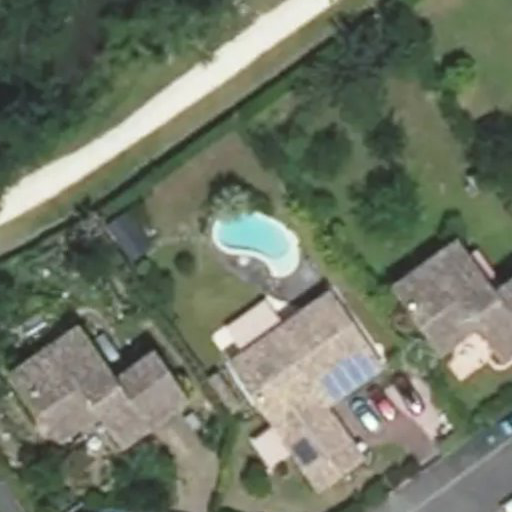pool: (207, 235, 308, 242)
